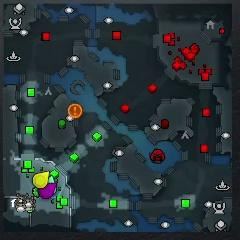Other: (68, 104, 83, 119)
p2: (47, 175, 55, 184)
p3: (39, 183, 56, 198)
p4: (33, 171, 50, 188)
